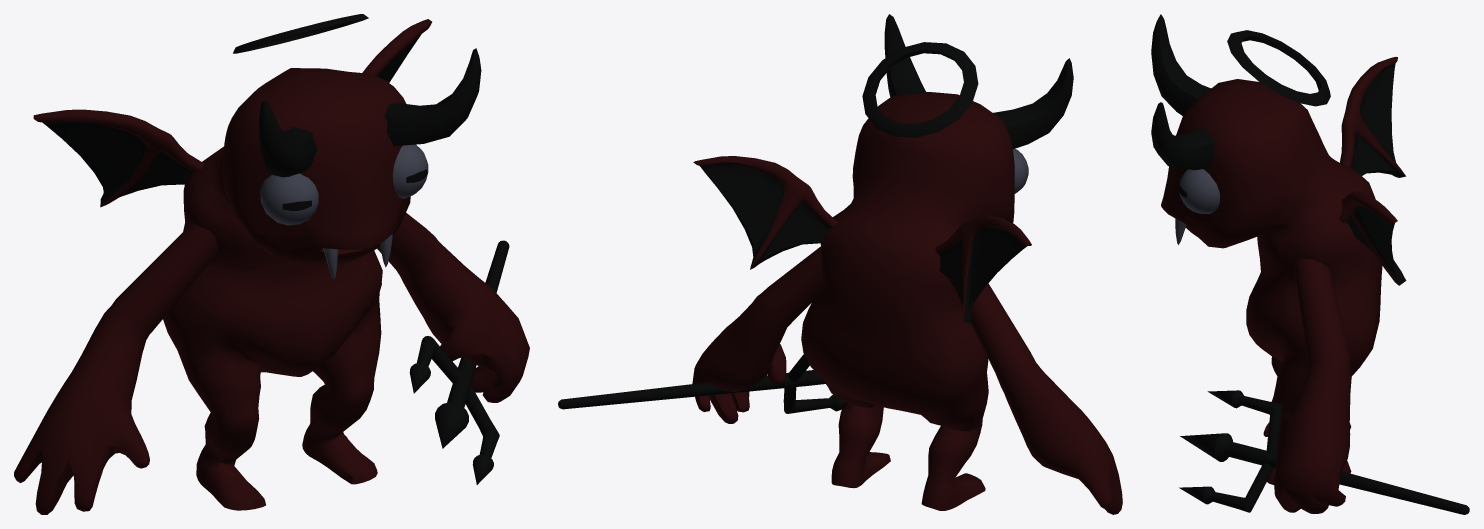
The model's file is Demon.obj.
3 views of the same model, side by side, from view 1: azimuth 30°, elevation 25°; view 2: azimuth 150°, elevation 25°; view 3: azimuth 270°, elevation 25° (orthographic). The views are drawn at different scales.
Parts seen in each view (by area): view 1: Demon_Cube.098, Trident_Cylinder.005; view 2: Demon_Cube.098, Trident_Cylinder.005; view 3: Demon_Cube.098, Trident_Cylinder.005.
Part boxes in pixels (x1,y1,x2,y2): Demon_Cube.098: (14, 14, 529, 514); Trident_Cylinder.005: (409, 240, 509, 484); Demon_Cube.098: (692, 14, 1122, 514); Trident_Cylinder.005: (558, 354, 844, 413); Demon_Cube.098: (1151, 14, 1406, 513); Trident_Cylinder.005: (1179, 390, 1469, 514).
Bounding box in the file's own units: 3.6 × 2.94 × 2.04.
